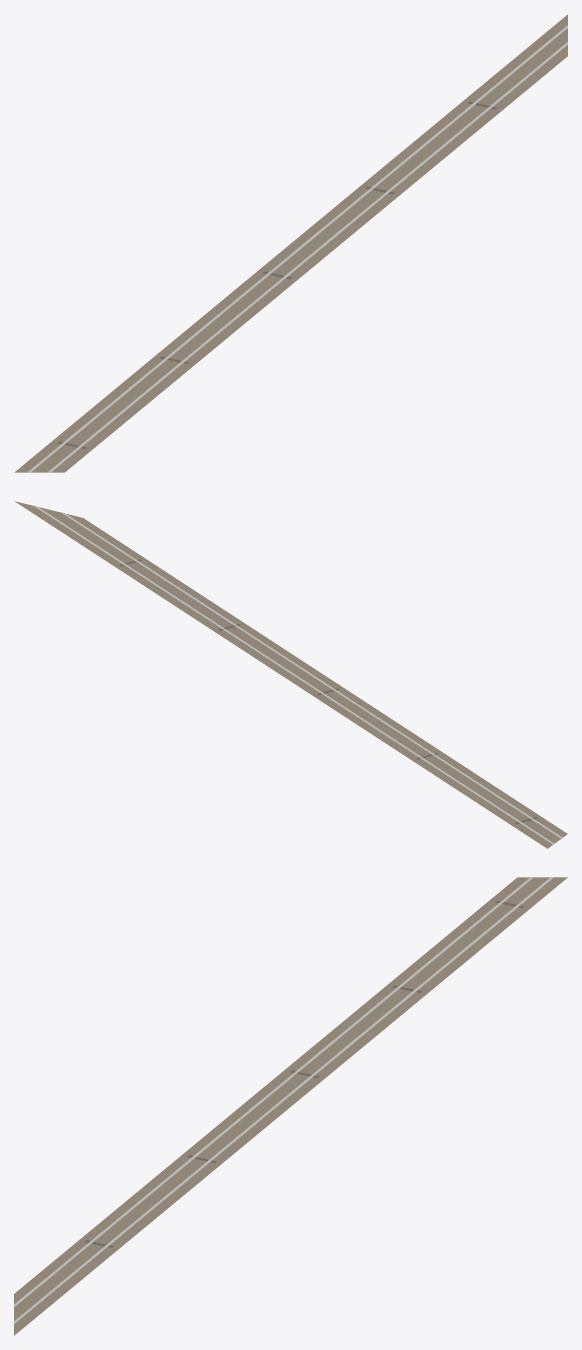
3 views of the same model, one above another, from view 1: azimuth 90°, elevation 25°; view 2: azimuth 150°, elevation 25°; view 3: azimuth 270°, elevation 25° (orthographic). The views are drawn at different scales.
Visible parts, largest first — view 1: rail; view 2: rail; view 3: rail.
Boxes of the visible parts, bbox=[...] form: rail: bbox=[14, 14, 567, 472]; rail: bbox=[15, 501, 567, 848]; rail: bbox=[14, 877, 567, 1335].
Size of the model in its own units: 86.53 by 0.04 by 44.18.
